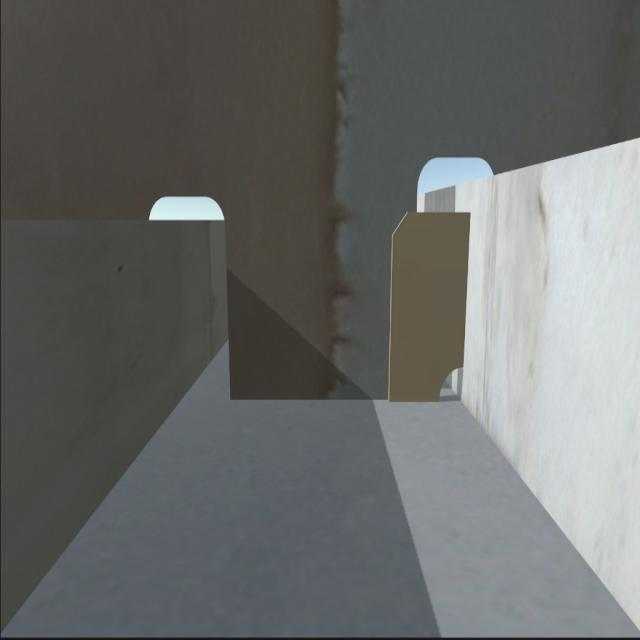fillet_hole: (433, 361, 472, 407)
fillet_yong_jeop_jang: (230, 388, 441, 408)
longi_yong_jeop_jang: (456, 211, 472, 366)
plate_CP03: (387, 208, 466, 406)
